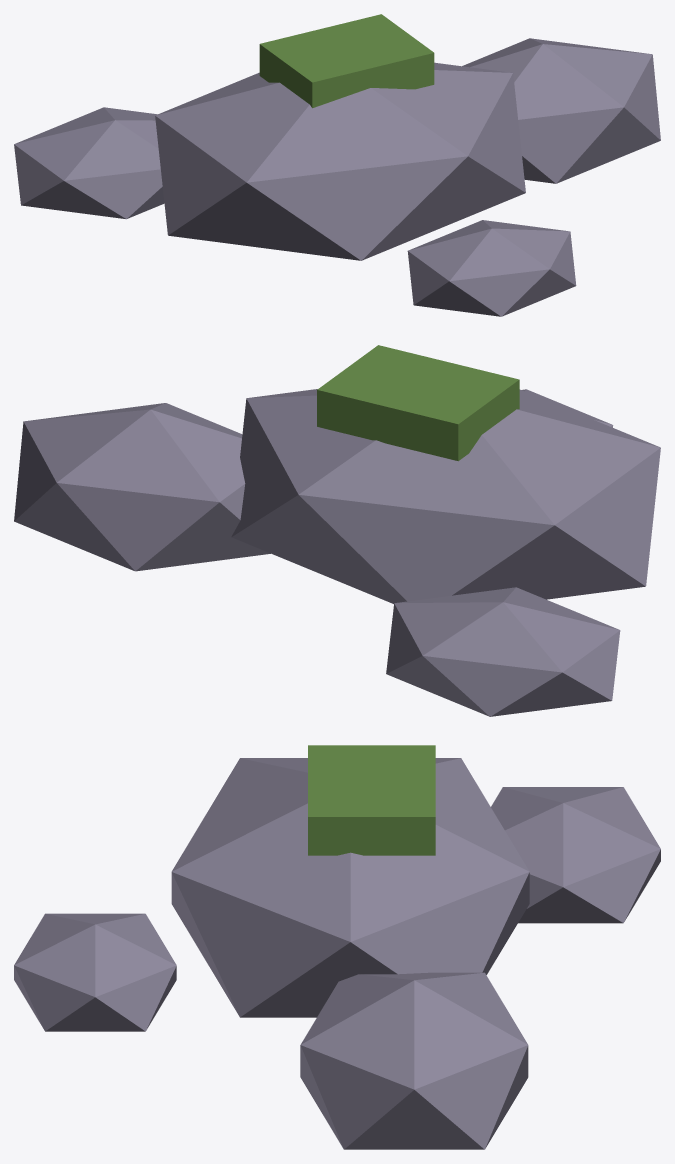
The model's file is rubble.glb.
3 renders of one model, top to bottom at view 1: azimuth 30°, elevation 25°; view 2: azimuth 150°, elevation 25°; view 3: azimuth 270°, elevation 25°, orthographic. The views are drawn at different scales.
Visible parts, largest first — view 1: Rubble; view 2: Rubble; view 3: Rubble.
Boxes of the visible parts, bbox=[...] form: Rubble: bbox=[14, 14, 660, 316]; Rubble: bbox=[14, 345, 660, 716]; Rubble: bbox=[14, 745, 660, 1149].
Bounding box in the file's own units: 0.7474 × 0.244 × 0.6084.
